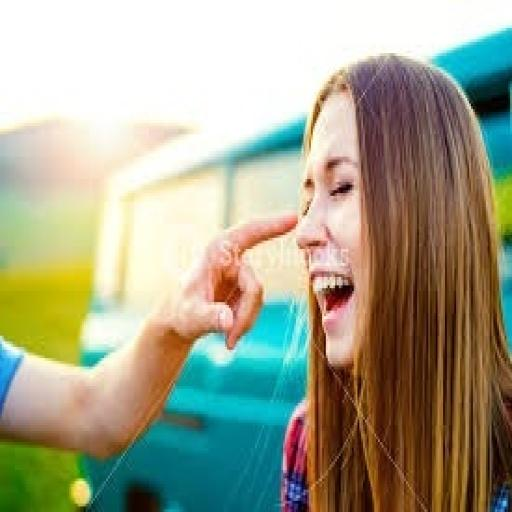laughing: (276, 45, 510, 509)
